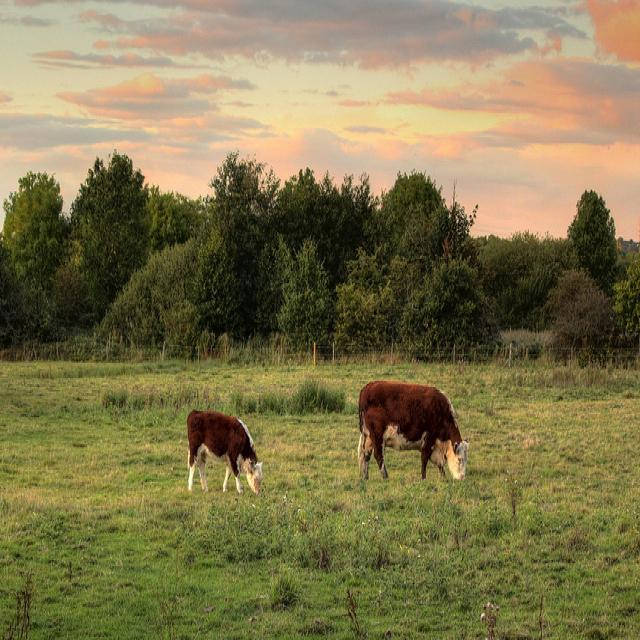cow: (357, 380, 468, 487), (186, 408, 262, 494)
